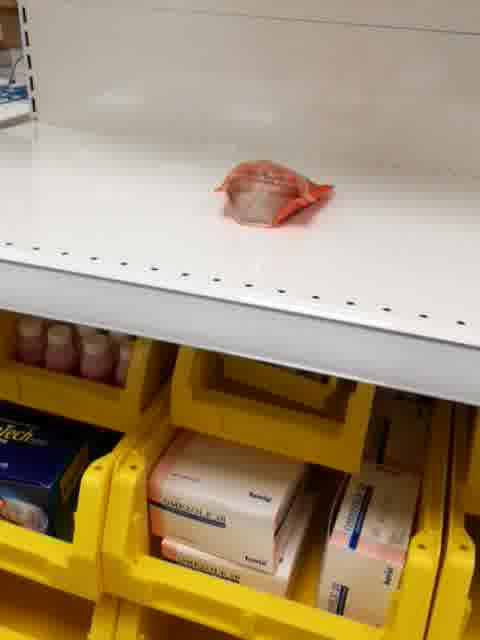whitechia: (211, 159, 337, 229)
